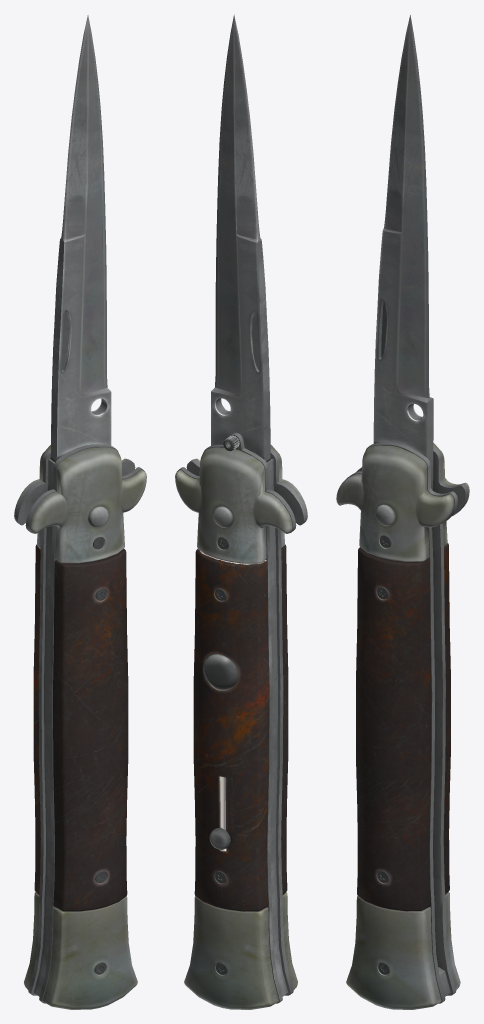
The model's file is weapon_knife_stiletto.glb.
The picture shows the model from 3 angles, left to right: view 1: azimuth 30°, elevation 25°; view 2: azimuth 150°, elevation 25°; view 3: azimuth 330°, elevation 25°; orthographic projection.
Visible parts, largest first — view 1: weapons/models/knife/knife_stiletto/weapon_knife_stiletto.v; view 2: weapons/models/knife/knife_stiletto/weapon_knife_stiletto.v; view 3: weapons/models/knife/knife_stiletto/weapon_knife_stiletto.v.
Part boxes in pixels (x1=…): weapons/models/knife/knife_stiletto/weapon_knife_stiletto.v: x1=14, y1=15, x2=146, y2=1009; weapons/models/knife/knife_stiletto/weapon_knife_stiletto.v: x1=175, y1=14, x2=307, y2=1009; weapons/models/knife/knife_stiletto/weapon_knife_stiletto.v: x1=336, y1=15, x2=469, y2=1009.
Bounding box in the file's own units: 1.68 × 13.4 × 1.16.
Materials: 1 (1 with a texture image).
